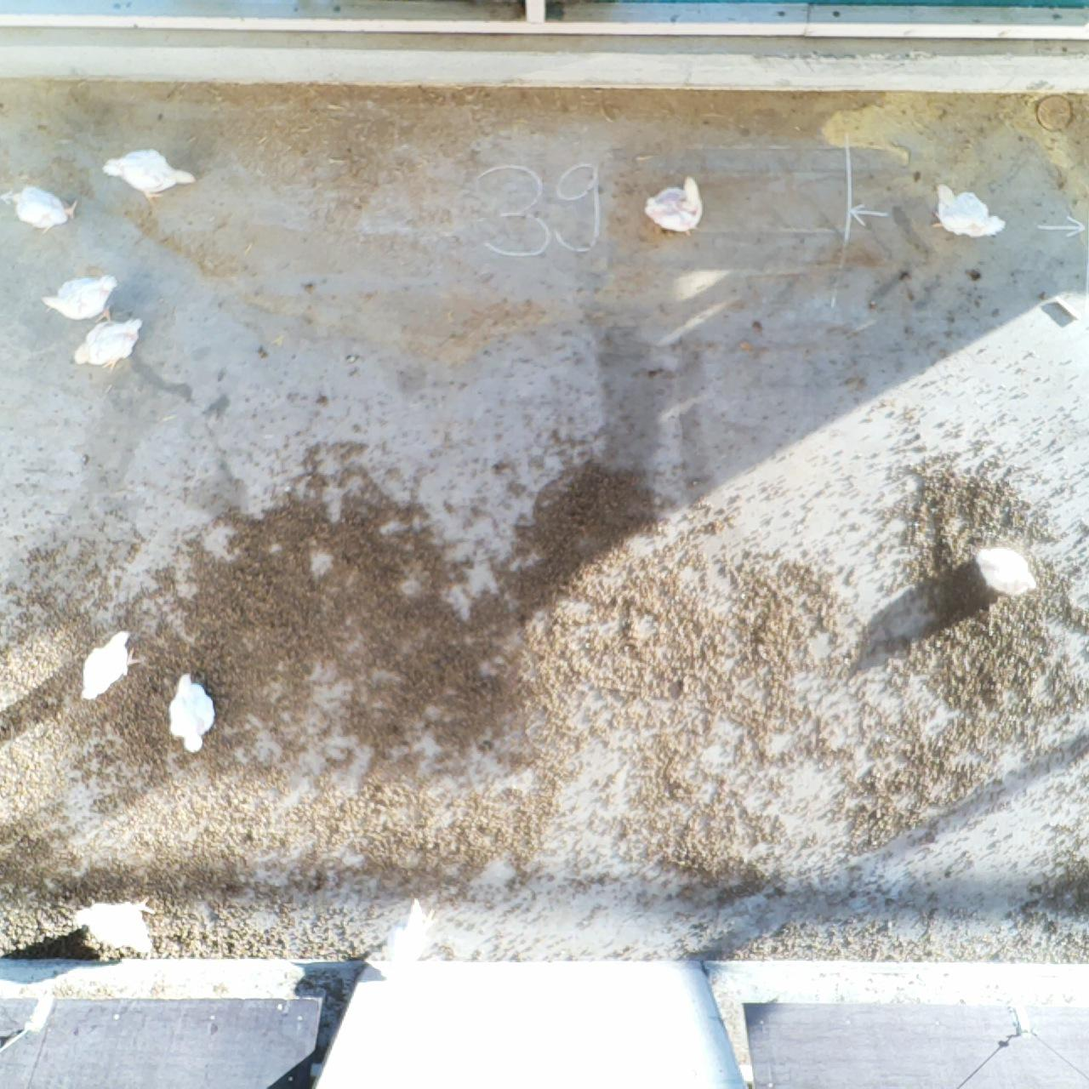chicken: (98, 145, 199, 210), (72, 891, 158, 960), (80, 624, 143, 705), (928, 179, 1007, 241), (38, 271, 122, 326), (165, 671, 218, 755), (643, 171, 708, 239), (72, 313, 147, 371), (8, 180, 81, 236), (384, 891, 440, 964), (974, 542, 1041, 598)
